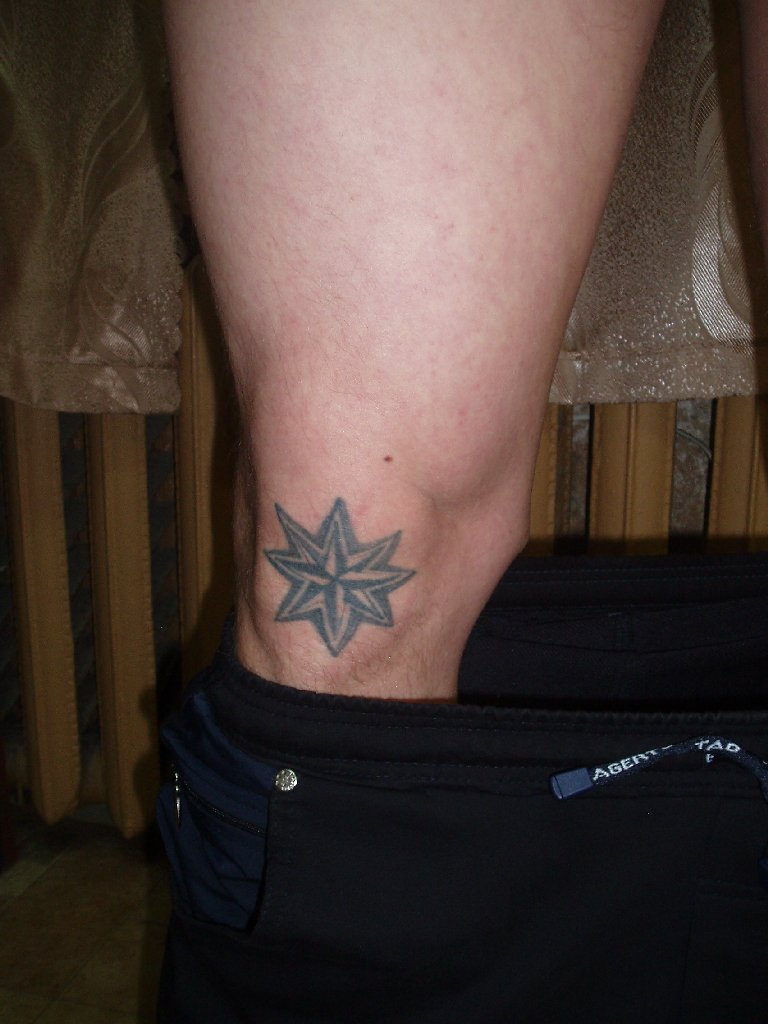tatu4_zvezda: (265, 499, 417, 653)
